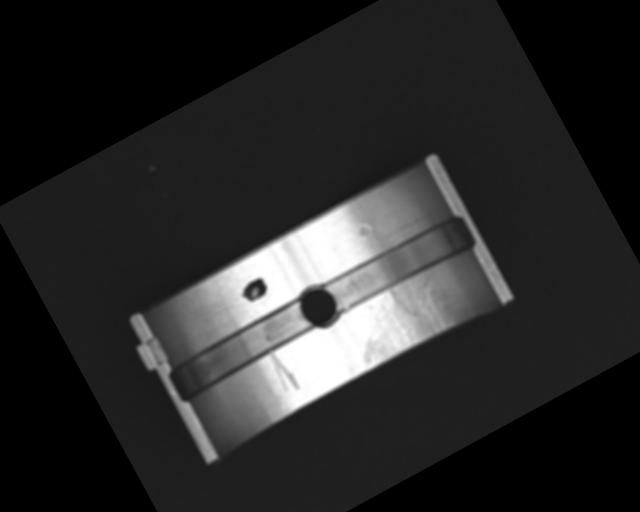blot: (236, 274, 270, 305)
bruise: (355, 220, 375, 241)
gap: (321, 209, 479, 320), (165, 299, 314, 402)
hole: (292, 278, 344, 334)
nick: (263, 344, 301, 395)
scratch: (338, 266, 459, 373)
